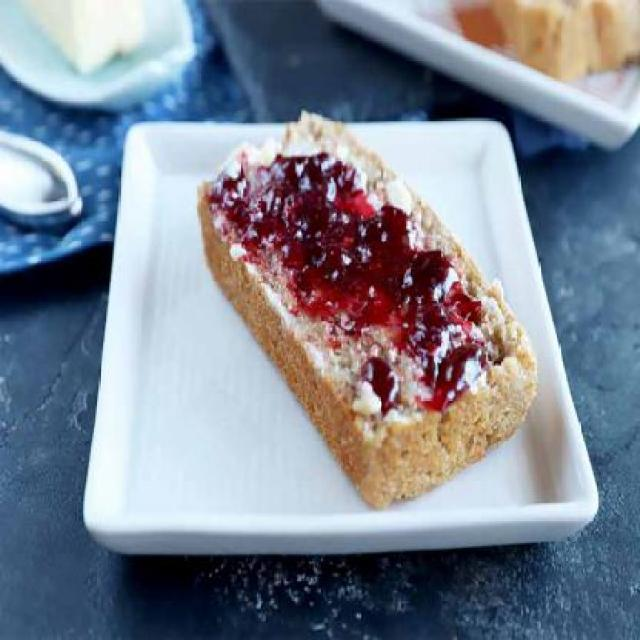Spread: (236, 156, 458, 421)
